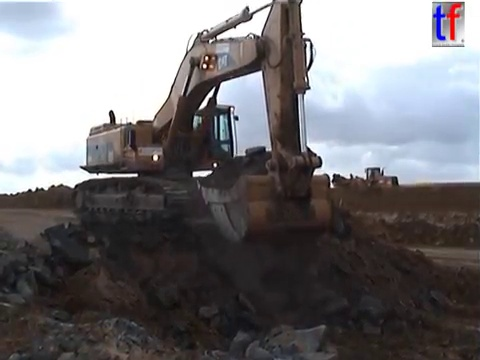excavator: (69, 1, 336, 247)
truck: (328, 164, 402, 202)
